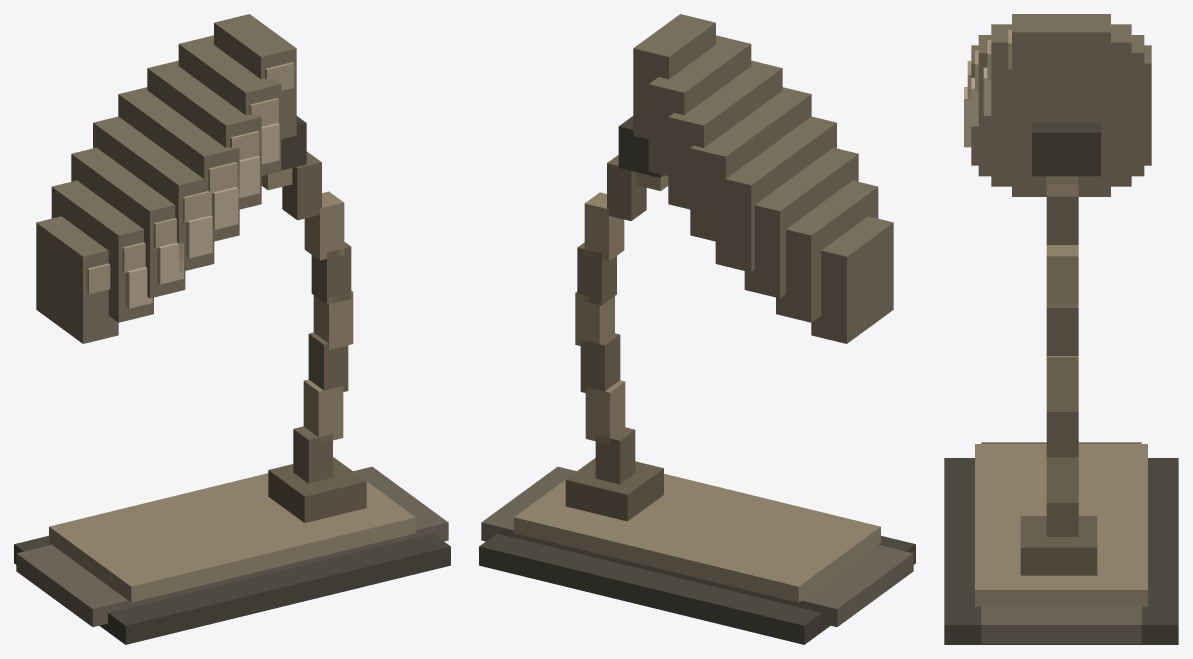
File: CMU3DDeskLamp.glb
The picture shows the model from 3 angles, left to right: view 1: azimuth 30°, elevation 25°; view 2: azimuth 150°, elevation 25°; view 3: azimuth 270°, elevation 25°; orthographic projection. The views are drawn at different scales.
Visible parts, largest first — view 1: foot inset top, foot outer rim, foot rounded middle, angled shade shell 0, angled shade shell 3, angled shade shell 2, angled shade shell 4, angled shade shell 1, angled shade shell 5, angled shade shell 6, angled shade shell 7, stem socket (+19 smaller); view 2: foot inset top, foot outer rim, foot rounded middle, angled shade shell 0, angled shade shell 3, angled shade shell 4, angled shade shell 2, angled shade shell 1, angled shade shell 5, angled shade shell 6, angled shade shell 7, stem socket (+8 smaller); view 3: foot inset top, foot outer rim, angled shade shell 7, foot rounded middle, angled shade shell 6, stem socket, shade hinge, angled shade shell 5, angled shade shell 4, curved stem 6, curved stem 5, curved stem 3 (+10 smaller).
Boxes of the visible parts, left/top/right/bottom form: foot inset top: left=49, top=457, right=415, bottom=602; foot outer rim: left=14, top=533, right=450, bottom=644; foot rounded middle: left=16, top=466, right=448, bottom=626; angled shade shell 0: left=36, top=216, right=118, bottom=343; angled shade shell 3: left=93, top=116, right=214, bottom=271; angled shade shell 2: left=71, top=147, right=185, bottom=298; angled shade shell 4: left=118, top=87, right=239, bottom=241; angled shade shell 1: left=51, top=180, right=153, bottom=322; angled shade shell 5: left=147, top=60, right=261, bottom=209; angled shade shell 6: left=178, top=35, right=281, bottom=175; angled shade shell 7: left=214, top=14, right=296, bottom=139; stem socket: left=268, top=457, right=366, bottom=522; foot inset top: left=514, top=458, right=880, bottom=602; foot outer rim: left=479, top=533, right=915, bottom=644; foot rounded middle: left=481, top=466, right=913, bottom=626; angled shade shell 0: left=811, top=216, right=893, bottom=343; angled shade shell 3: left=715, top=116, right=836, bottom=272; angled shade shell 4: left=690, top=87, right=811, bottom=243; angled shade shell 2: left=744, top=147, right=858, bottom=298; angled shade shell 1: left=776, top=180, right=878, bottom=322; angled shade shell 5: left=668, top=60, right=782, bottom=209; angled shade shell 6: left=648, top=35, right=751, bottom=175; angled shade shell 7: left=633, top=14, right=715, bottom=139; stem socket: left=565, top=458, right=663, bottom=521; foot inset top: left=975, top=444, right=1147, bottom=606; foot outer rim: left=944, top=458, right=1178, bottom=644; angled shade shell 7: left=1012, top=14, right=1110, bottom=123; foot rounded middle: left=981, top=442, right=1141, bottom=643; angled shade shell 6: left=991, top=24, right=1131, bottom=134; stem socket: left=1020, top=516, right=1097, bottom=575; shade hinge: left=1032, top=122, right=1100, bottom=176; angled shade shell 5: left=978, top=35, right=1144, bottom=144; angled shade shell 4: left=971, top=45, right=1151, bottom=155; curved stem 6: left=1046, top=184, right=1078, bottom=244; curved stem 5: left=1046, top=245, right=1078, bottom=304; curved stem 3: left=1046, top=356, right=1078, bottom=411.
Bounding box in the file's own units: 0.35 × 0.492 × 0.19.
